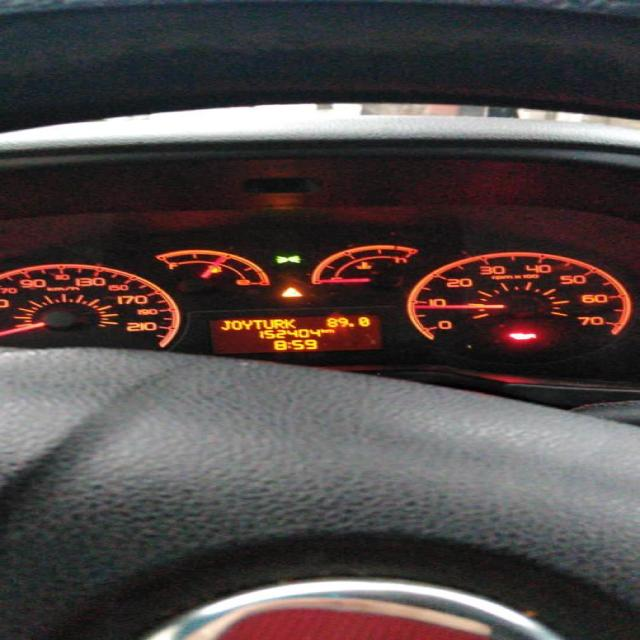odometer: (206, 313, 387, 354)
